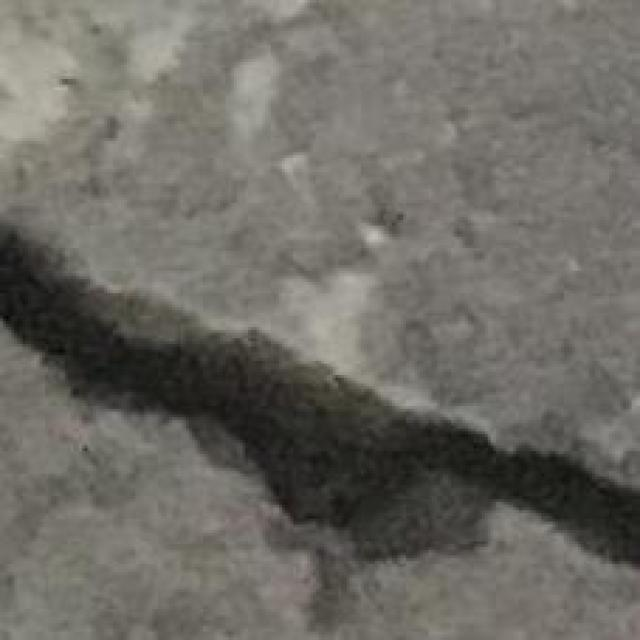Diagonal: (0, 188, 218, 451)
Transverse: (450, 415, 640, 606)
Turtle-shell patterned: (231, 309, 442, 584)
